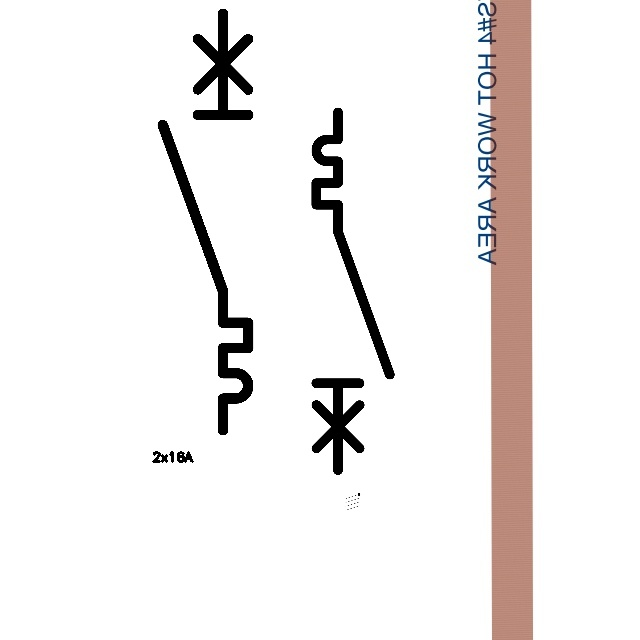interruptor_termomagnetico: (152, 3, 259, 441), (307, 103, 399, 479)
